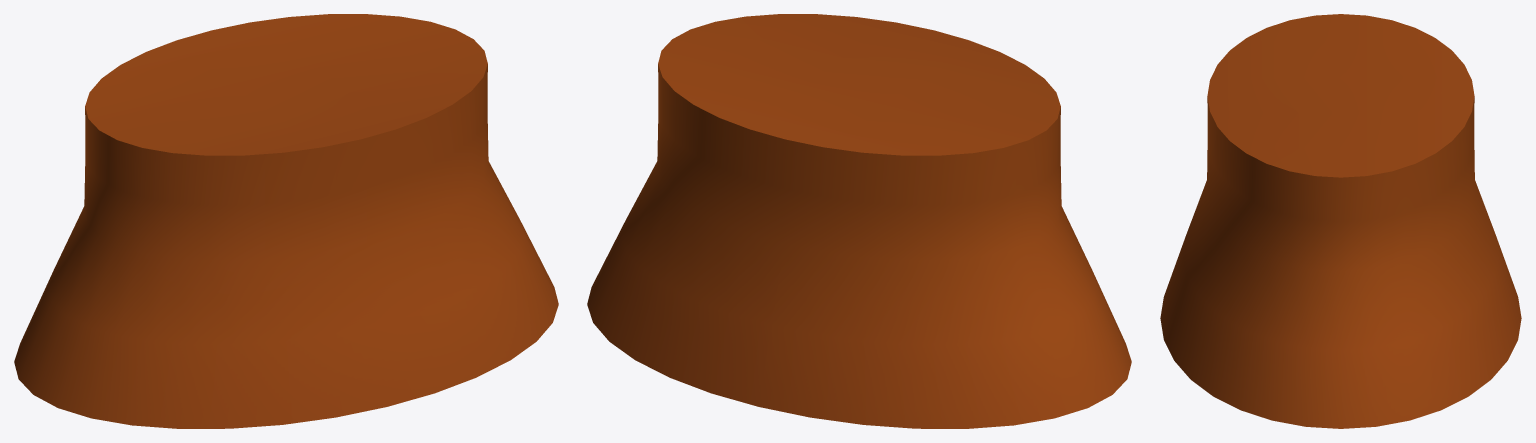
Rendered from Mountain 1.glb.
3 views of the same model, side by side, from view 1: azimuth 30°, elevation 25°; view 2: azimuth 150°, elevation 25°; view 3: azimuth 270°, elevation 25° (orthographic). The views are drawn at different scales.
Parts seen in each view (by area): view 1: Cylinder; view 2: Cylinder; view 3: Cylinder.
Boxes of the visible parts, x1,y1,x2,y2 form: Cylinder: [14, 14, 558, 428]; Cylinder: [587, 14, 1131, 428]; Cylinder: [1160, 14, 1521, 428].
Bounding box in the file's own units: 62.02 × 29.08 × 42.78.
Materials: 1 (1 with a texture image).
